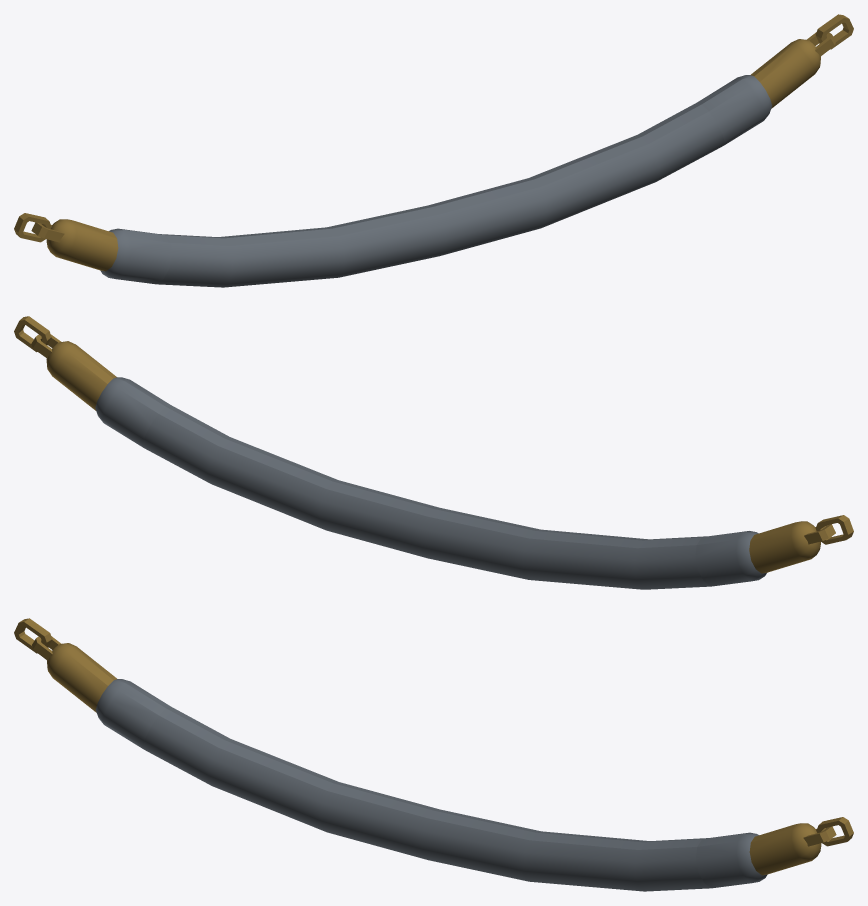
Rendered from WM_RopeFenceRope.fbx.
3 views of the same model, one above another, from view 1: azimuth 30°, elevation 25°; view 2: azimuth 150°, elevation 25°; view 3: azimuth 330°, elevation 25° (orthographic).
Parts seen in each view (by area): view 1: polySurface145; view 2: polySurface145; view 3: polySurface145.
Boxes of the visible parts, x1=… form: polySurface145: x1=14, y1=14, x2=853, y2=287; polySurface145: x1=14, y1=316, x2=853, y2=589; polySurface145: x1=14, y1=618, x2=853, y2=891.
Bounding box in the file's own units: 8.1 × 1.29 × 0.4081.
